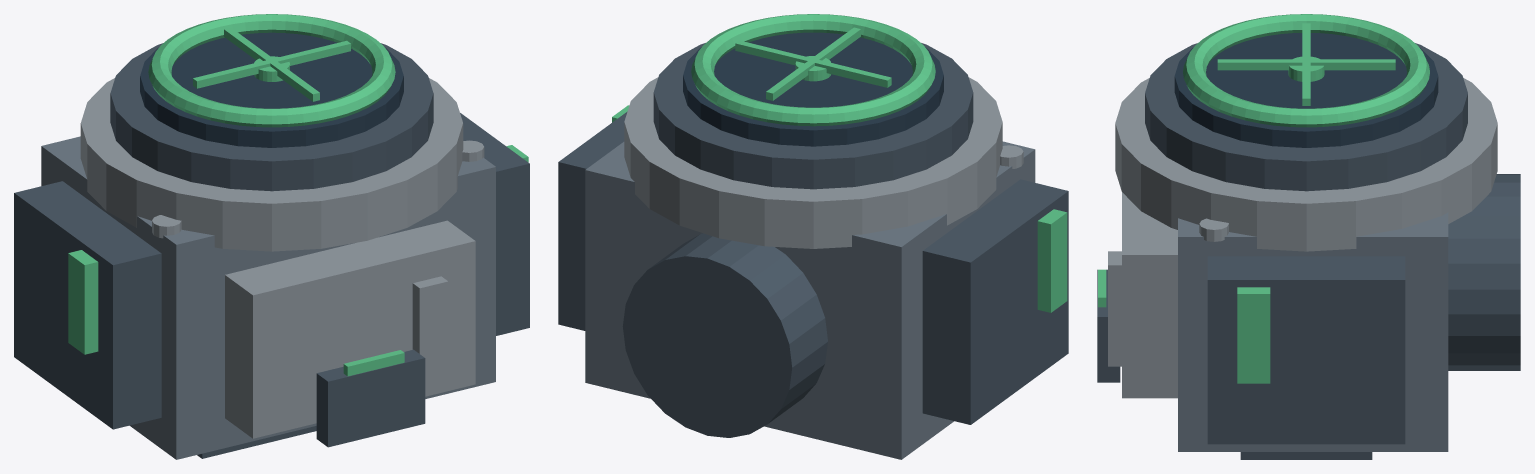
File: mira1.glb
3 renders of one model, left to right at view 1: azimuth 30°, elevation 25°; view 2: azimuth 150°, elevation 25°; view 3: azimuth 270°, elevation 25°, orthographic.
Visible parts, largest first — view 1: top_armor_cover, side_cheek_-1, main_sensor_housing, outer_lens_bezel, inner_gasket, sensor_glass, illuminated_target_ring, tier_badge, side_cheek_1, top_heat_fin_0, side_light_-1, reticle_horizontal (+4 smaller); view 2: main_sensor_housing, compact_mount_socket, side_cheek_-1, outer_lens_bezel, inner_gasket, sensor_glass, illuminated_target_ring, side_cheek_1, side_light_-1, reticle_horizontal, reticle_vertical; view 3: side_cheek_1, outer_lens_bezel, main_sensor_housing, inner_gasket, sensor_glass, compact_mount_socket, illuminated_target_ring, top_armor_cover, side_light_1, reticle_vertical, top_heat_fin_0, tier_badge (+4 smaller).
Boxes of the visible parts, x1,y1,x2,y2 form: top_armor_cover: (225,220,475,438); side_cheek_-1: (14,181,161,429); main_sensor_housing: (41,136,495,459); outer_lens_bezel: (80,78,463,251); inner_gasket: (110,43,433,191); sensor_glass: (140,32,403,147); illuminated_target_ring: (148,14,395,127); tier_badge: (316,349,425,447); side_cheek_1: (460,113,529,335); top_heat_fin_0: (412,276,448,388); side_light_-1: (68,250,98,354); reticle_horizontal: (193,40,350,88); main_sensor_housing: (585,141,1035,459); compact_mount_socket: (622,233,827,437); side_cheek_-1: (922,179,1068,424); outer_lens_bezel: (624,77,1002,248); inner_gasket: (653,43,973,189); sensor_glass: (683,32,943,146); illuminated_target_ring: (691,14,935,126); side_cheek_1: (558,111,627,330); side_light_-1: (1037,209,1067,312); reticle_horizontal: (735,40,891,87); reticle_vertical: (766,27,860,100); side_cheek_1: (1207,256,1405,444); outer_lens_bezel: (1115,78,1497,251); main_sensor_housing: (1178,212,1448,451); inner_gasket: (1145,43,1467,191); sensor_glass: (1174,33,1438,147); compact_mount_socket: (1448,174,1520,370); illuminated_target_ring: (1183,14,1429,127); top_armor_cover: (1122,192,1177,398); side_light_1: (1237,287,1270,383); reticle_vertical: (1217,59,1395,70); top_heat_fin_0: (1108,251,1121,366); tier_badge: (1097,269,1120,382).
Size of the model in its own units: 1.55 by 1.17 by 1.28.
